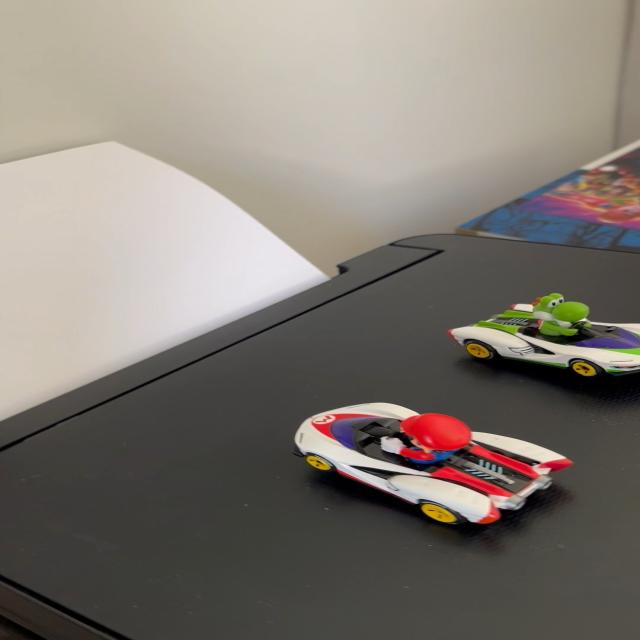mario: (260, 398, 587, 538)
yoshi: (441, 291, 640, 379)
